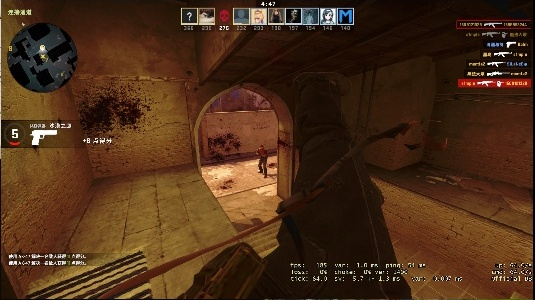body: (255, 145, 270, 178)
head: (259, 146, 265, 152)
